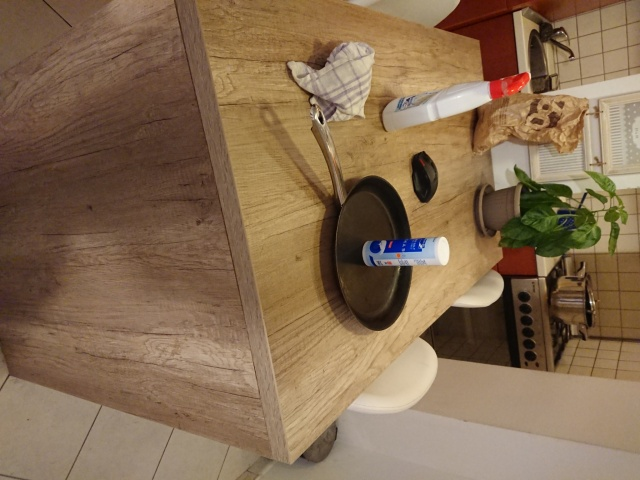Solana Pag Fine Sea Salt 250g: (359, 234, 452, 270)
